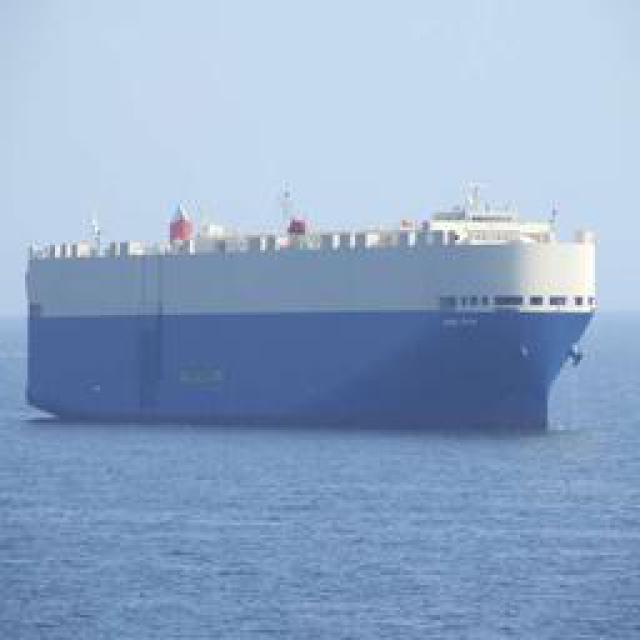Ship: (25, 184, 603, 437)
